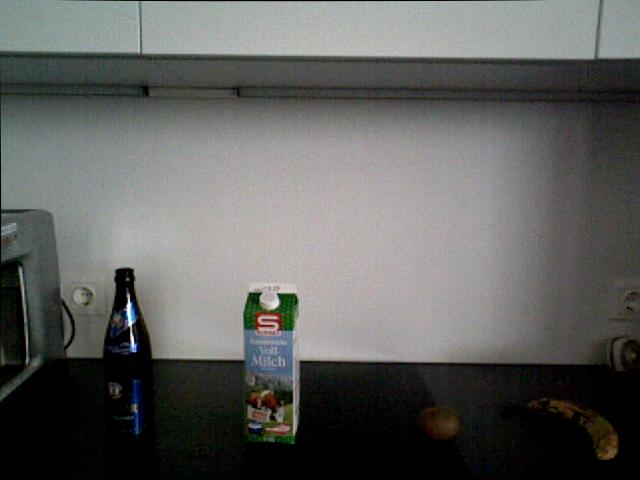bench: (240, 279, 305, 447), (102, 266, 155, 446)
giraffe: (601, 333, 640, 375)
motorcycle: (513, 390, 624, 468)
